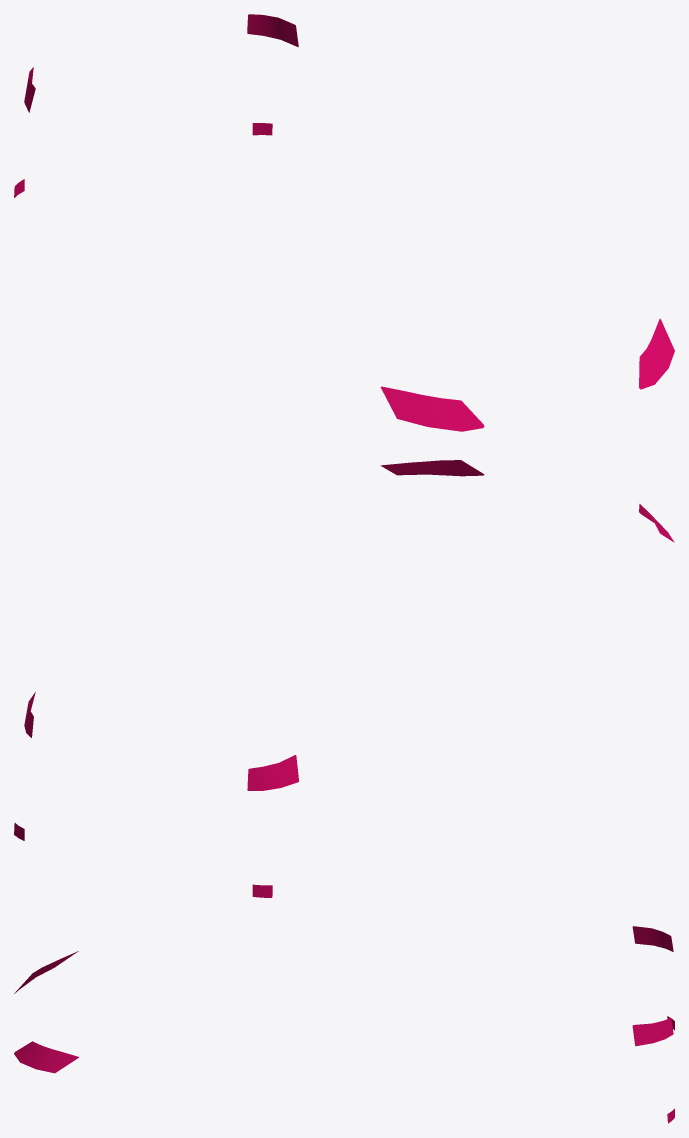
File: Car_HeadLights.fbx
3 renders of one model, top to bottom at view 1: azimuth 30°, elevation 25°; view 2: azimuth 150°, elevation 25°; view 3: azimuth 270°, elevation 25°, orthographic. The views are drawn at different scales.
Parts seen in each view (by area): view 1: Car_HeadLights; view 2: Car_HeadLights; view 3: Car_HeadLights.
Boxes of the visible parts, x1,y1,x2,y2 form: Car_HeadLights: (14,14,674,431); Car_HeadLights: (14,460,674,897); Car_HeadLights: (14,926,674,1123).
Bounding box in the file's own units: 170 × 73.67 × 446.
